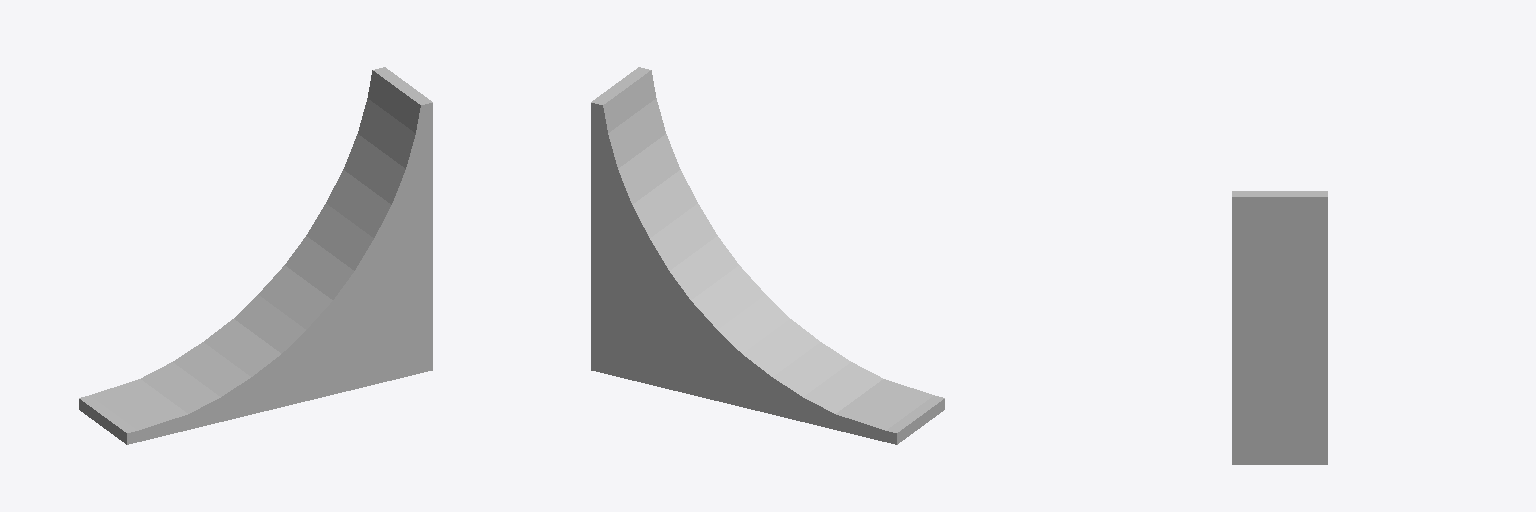
Rendered from Ramp_high_c.obj.
3 renders of one model, left to right at view 1: azimuth 30°, elevation 25°; view 2: azimuth 150°, elevation 25°; view 3: azimuth 270°, elevation 25°, orthographic.
Parts seen in each view (by area): view 1: collisonbox_Cube; view 2: collisonbox_Cube; view 3: collisonbox_Cube.
Boxes of the visible parts, x1,y1,x2,y2 form: collisonbox_Cube: [79, 67, 432, 444]; collisonbox_Cube: [591, 67, 944, 444]; collisonbox_Cube: [1232, 191, 1327, 464].
Size of the model in its own units: 7.33 by 6.12 by 2.01.